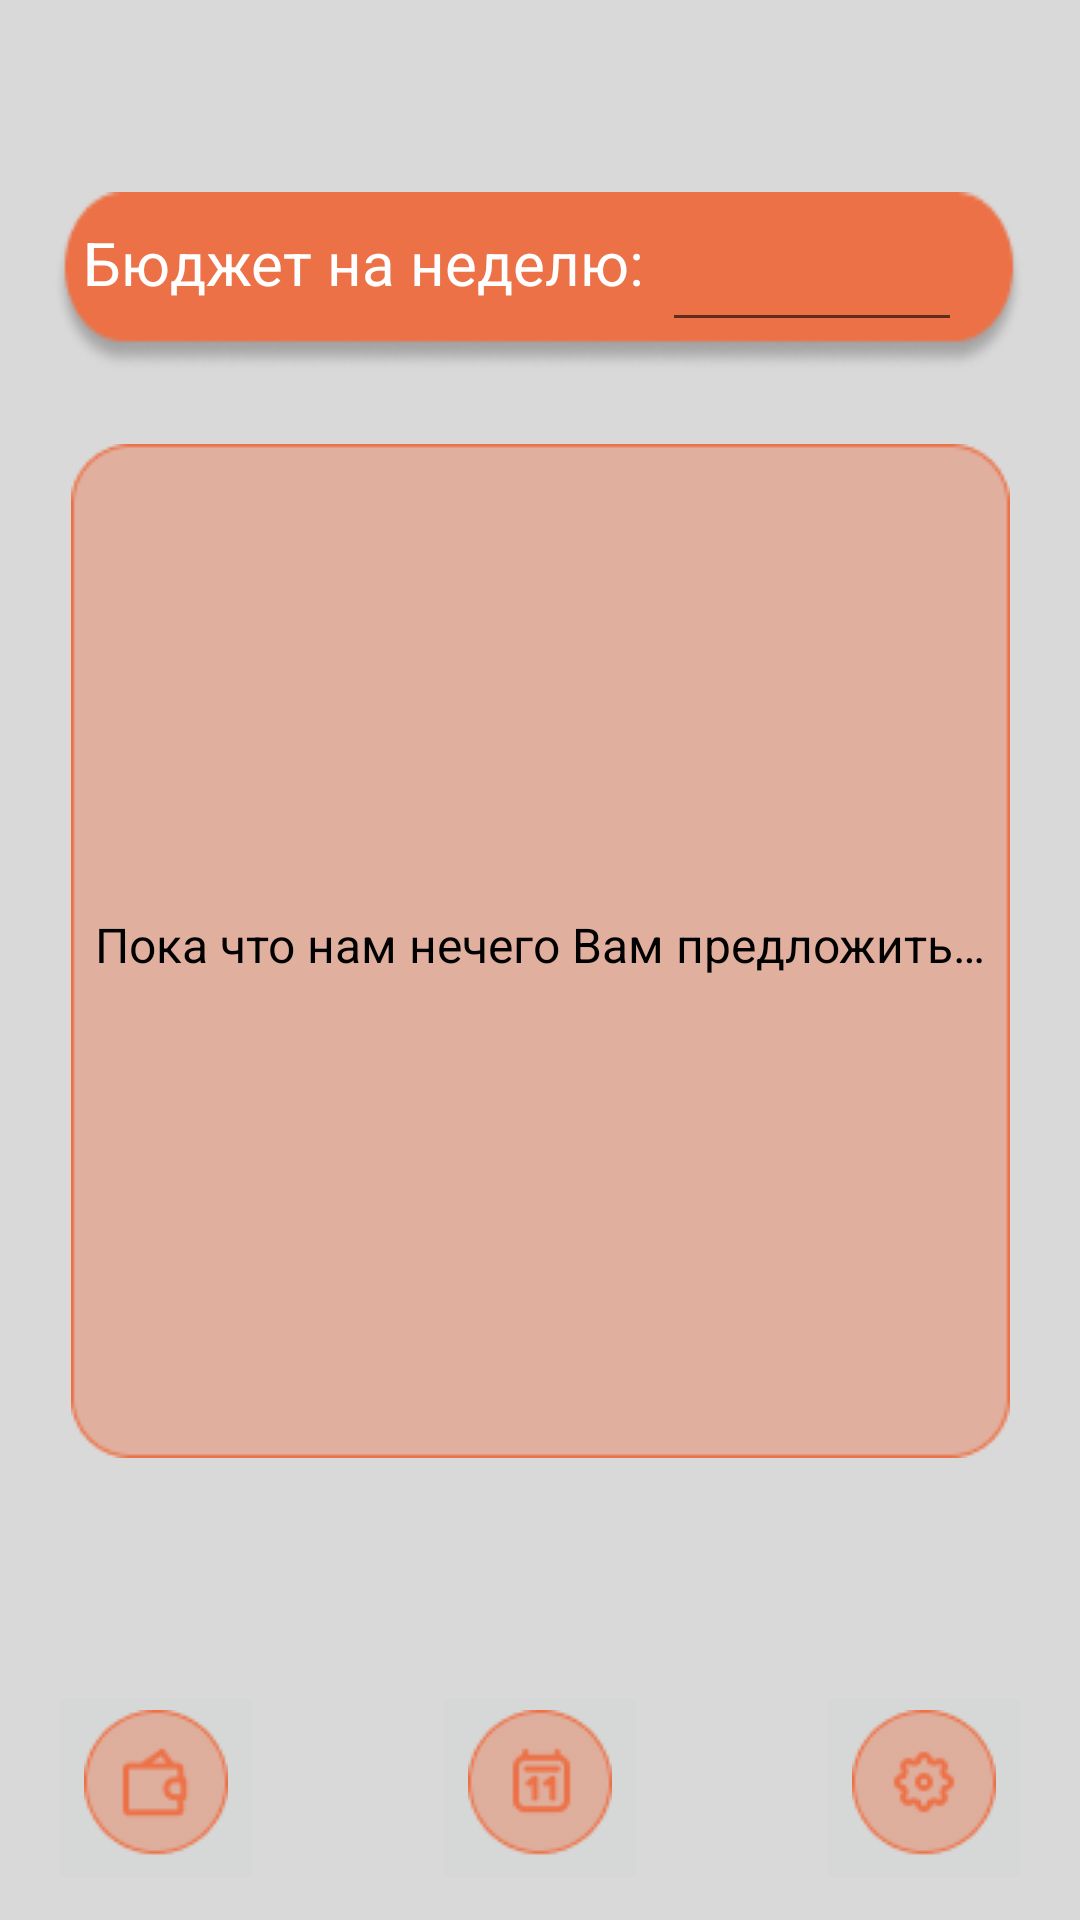

Icons on this 1080 × 1920 Android screen, each with its box as {"x1": x1, "y1": y1, "x2": x2, "y2": y2}:
sett: {"x1": 852, "y1": 1710, "x2": 996, "y2": 1855}
